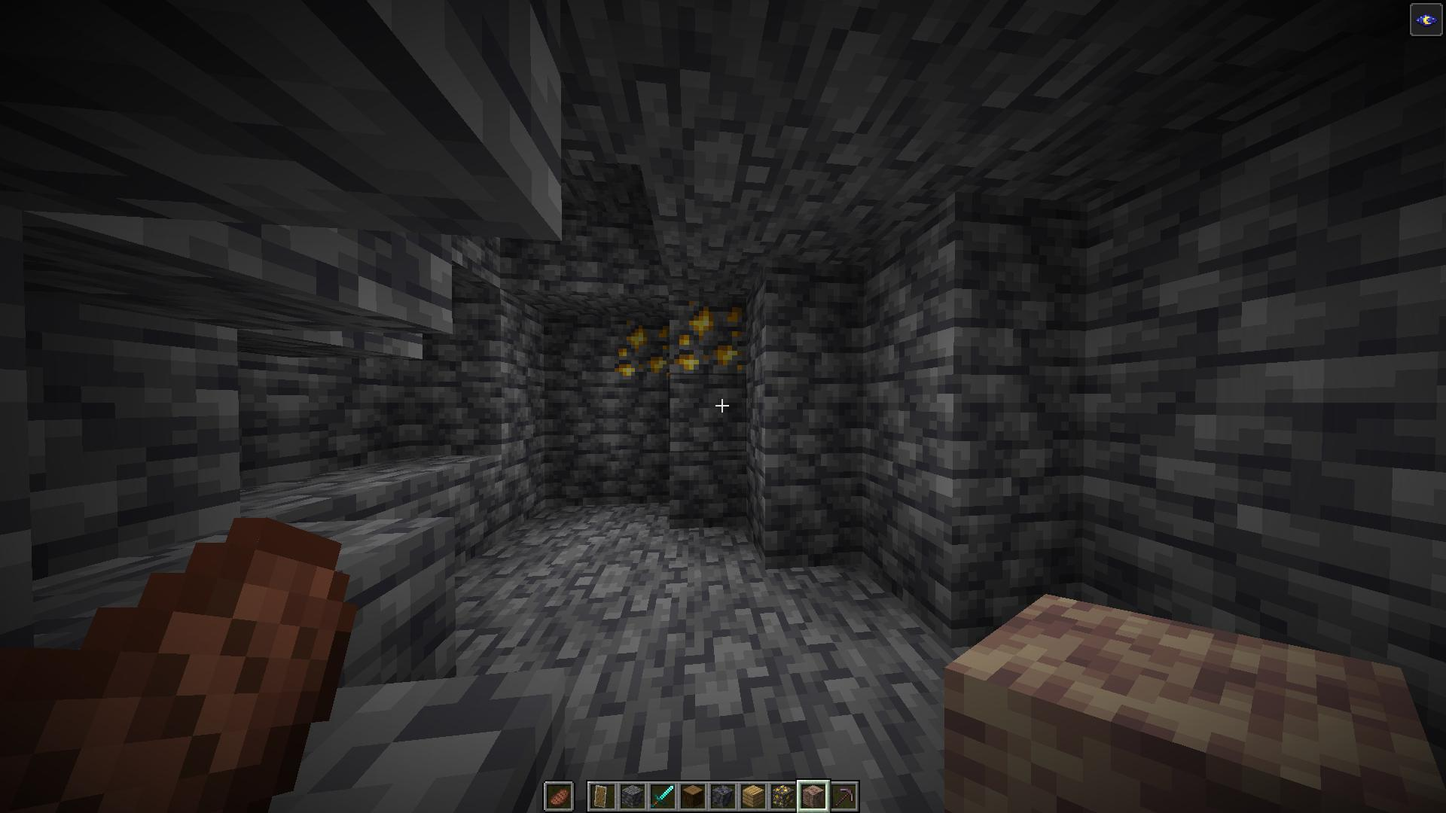gold ore: (670, 293, 748, 375), (613, 313, 671, 379)
